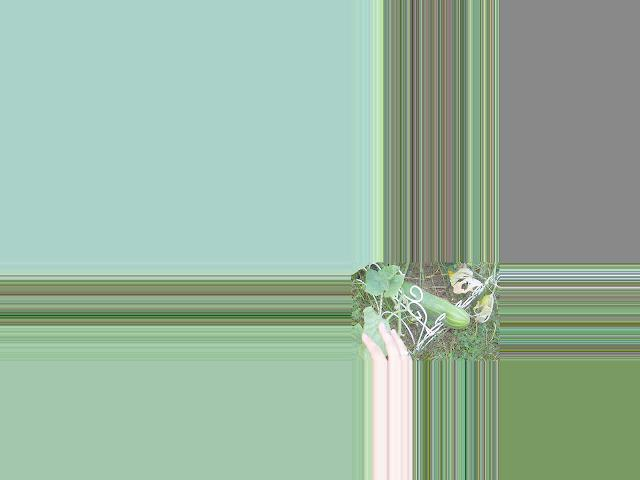cucumber: (400, 282, 469, 329)
